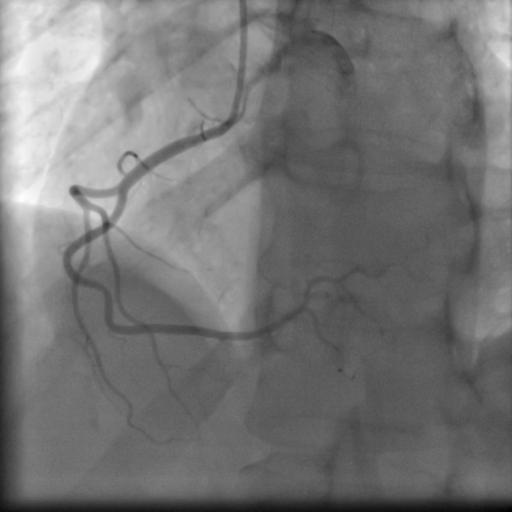Stenosis: (82, 273, 114, 302)
